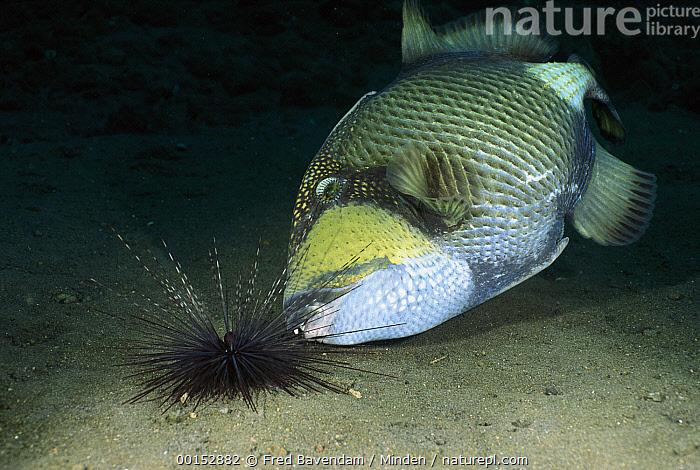urchin: (77, 222, 410, 414)
